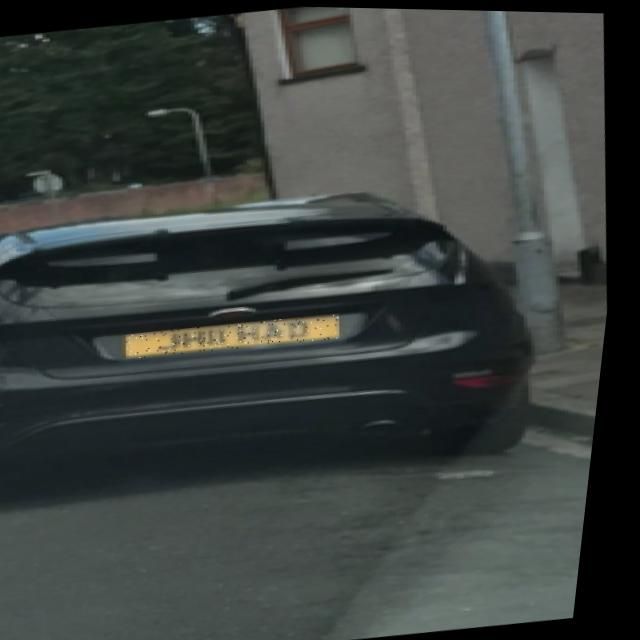license_plate: (131, 307, 349, 362)
